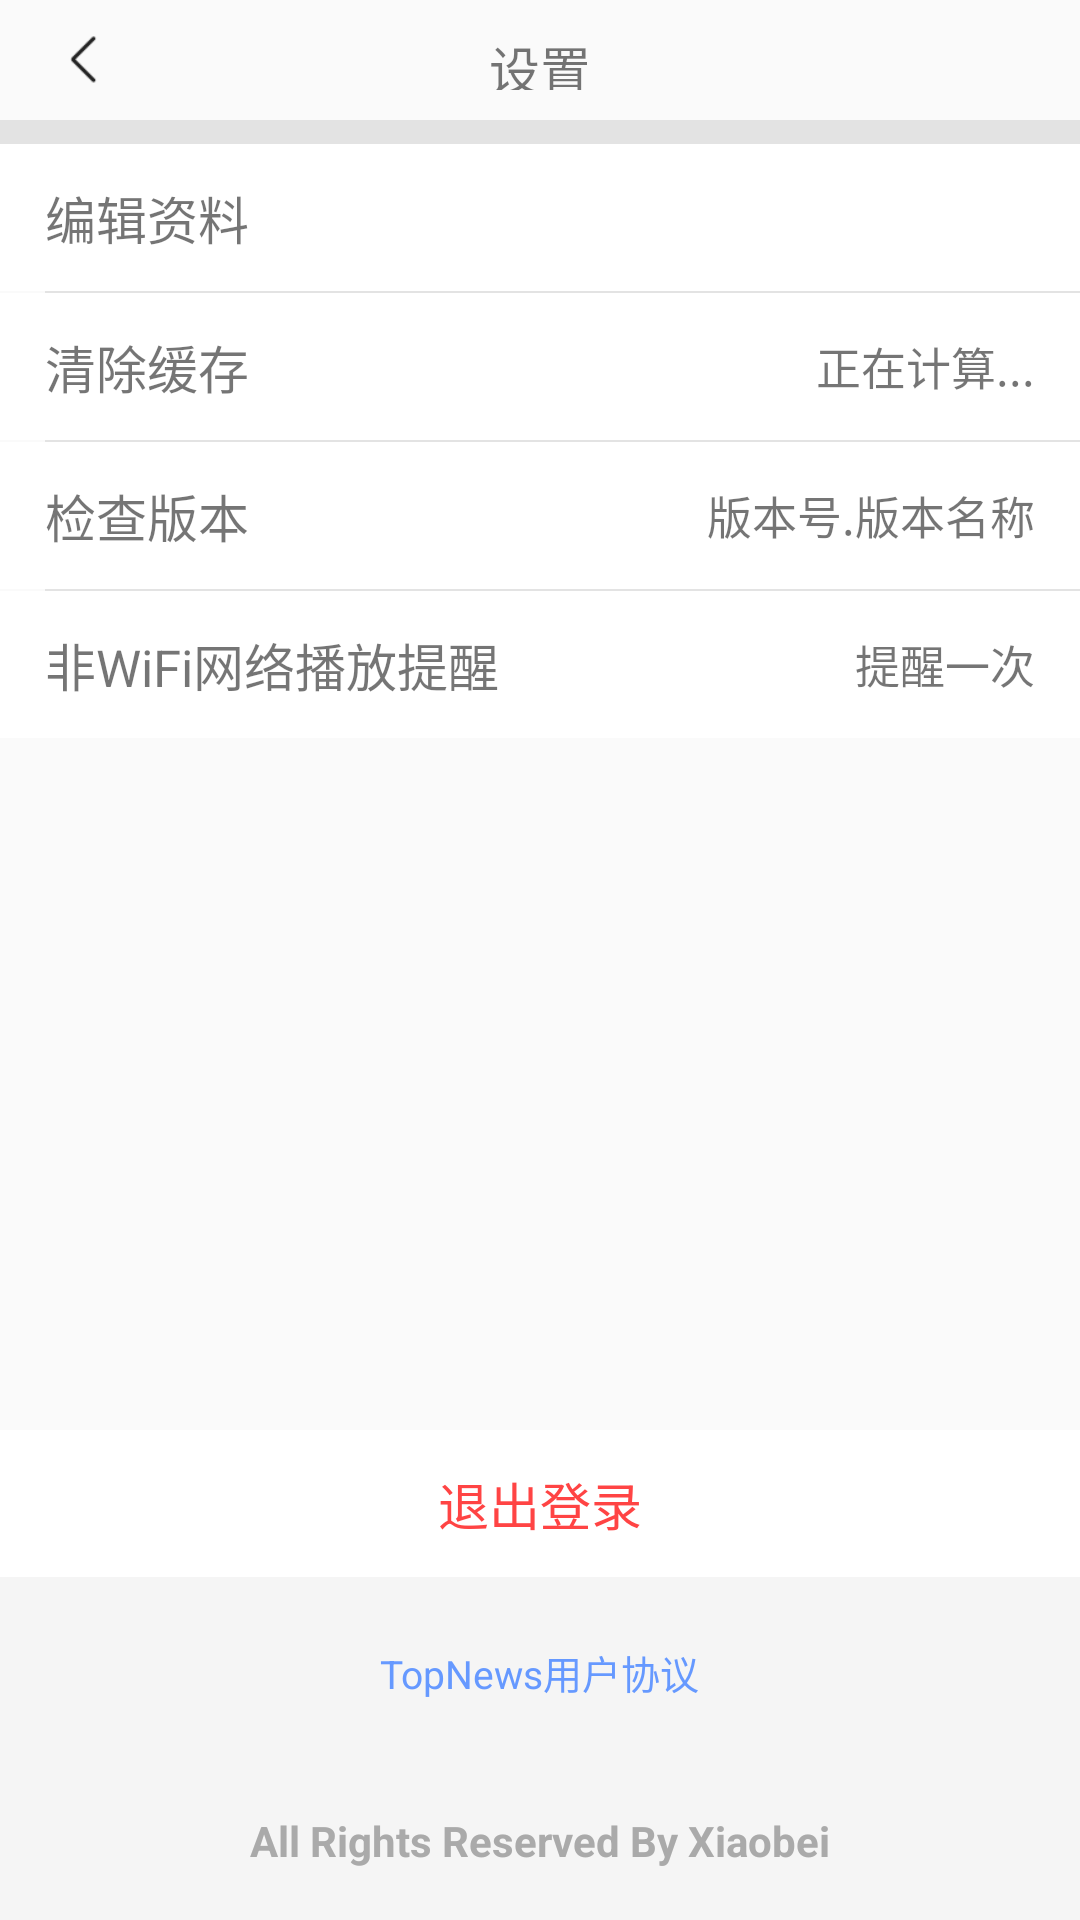

Point at icon controls on the screen. Image size 1080x1920, points as point (x, y).
left back titlebar: point (83, 59)
